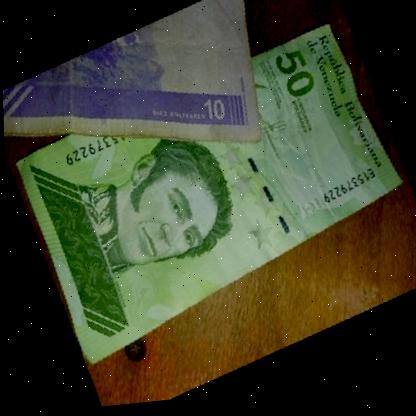fifty-front-vef: (1, 15, 416, 380)
